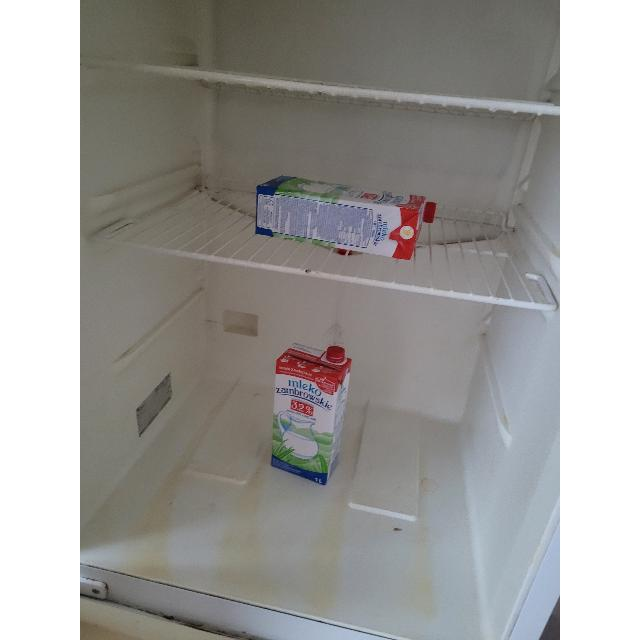milk: (253, 174, 431, 260), (272, 341, 354, 487)
